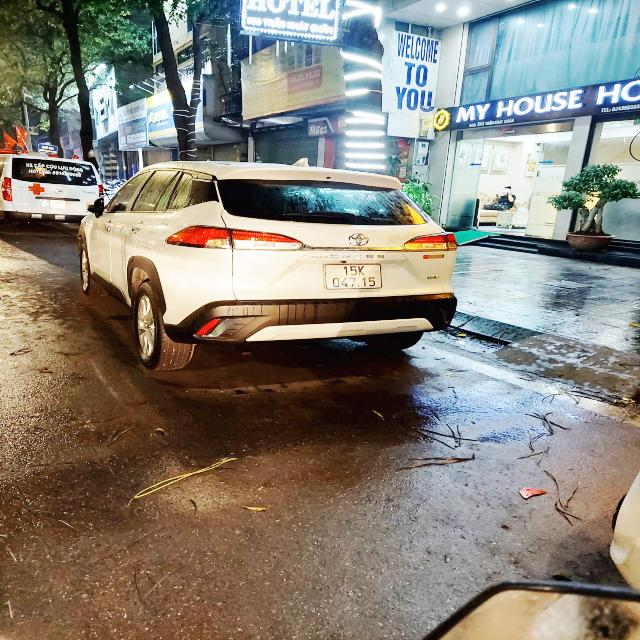license_plate: (323, 265, 384, 291)
